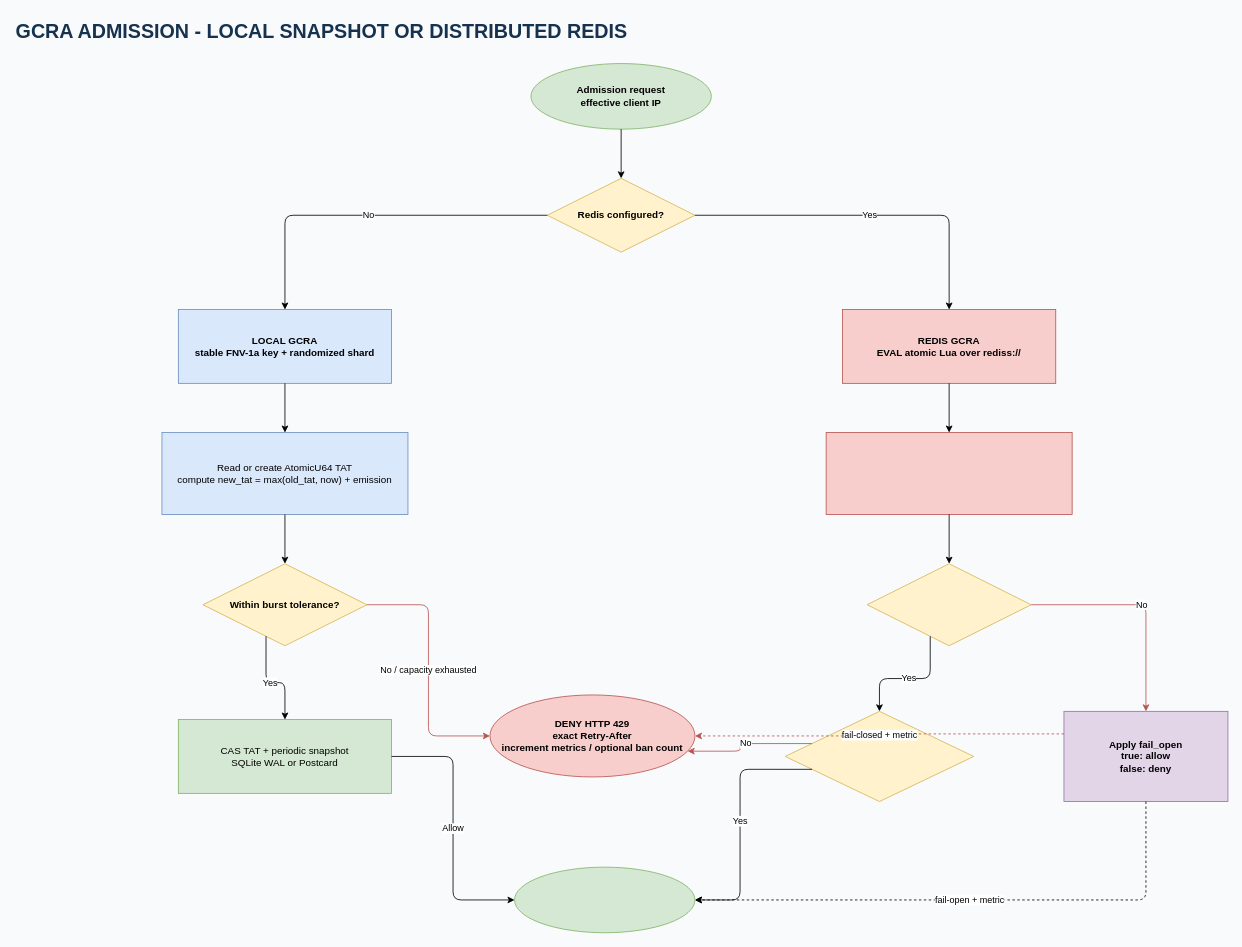
Image size: 1242x947. Some labels were removed from this diagram. The shapes that lost their labels are listed below. From the top down, each one's box as (x1, y1, x2, y2) in pixels, then its label:
(825, 432, 1072, 515): Redis TIME + GET TAT compute conformance inside script
(866, 563, 1031, 646): Backend available?
(784, 711, 974, 802): Conforming? SET new TAT with PX TTL only on allow
(514, 866, 695, 933): ALLOW continue request pipeline
